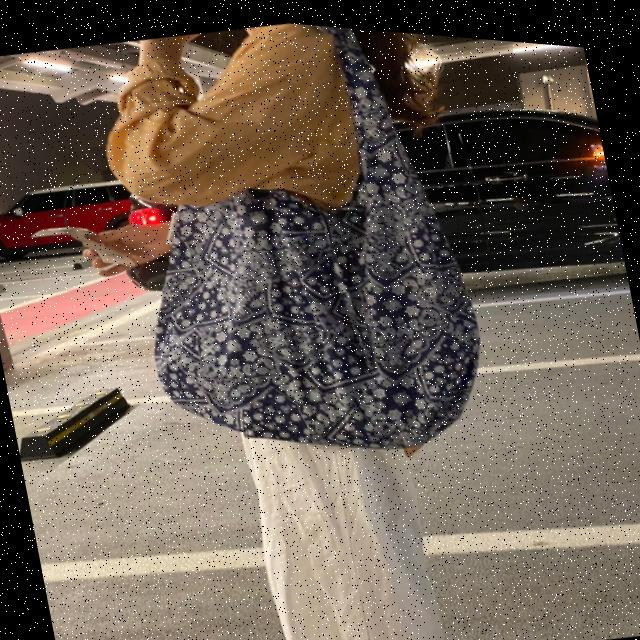ecobag: (77, 5, 539, 506)
